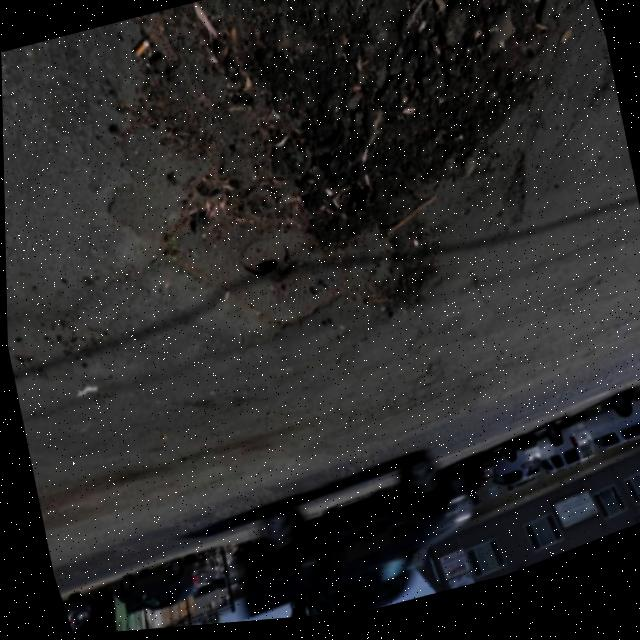Pothole: (92, 0, 640, 352)
